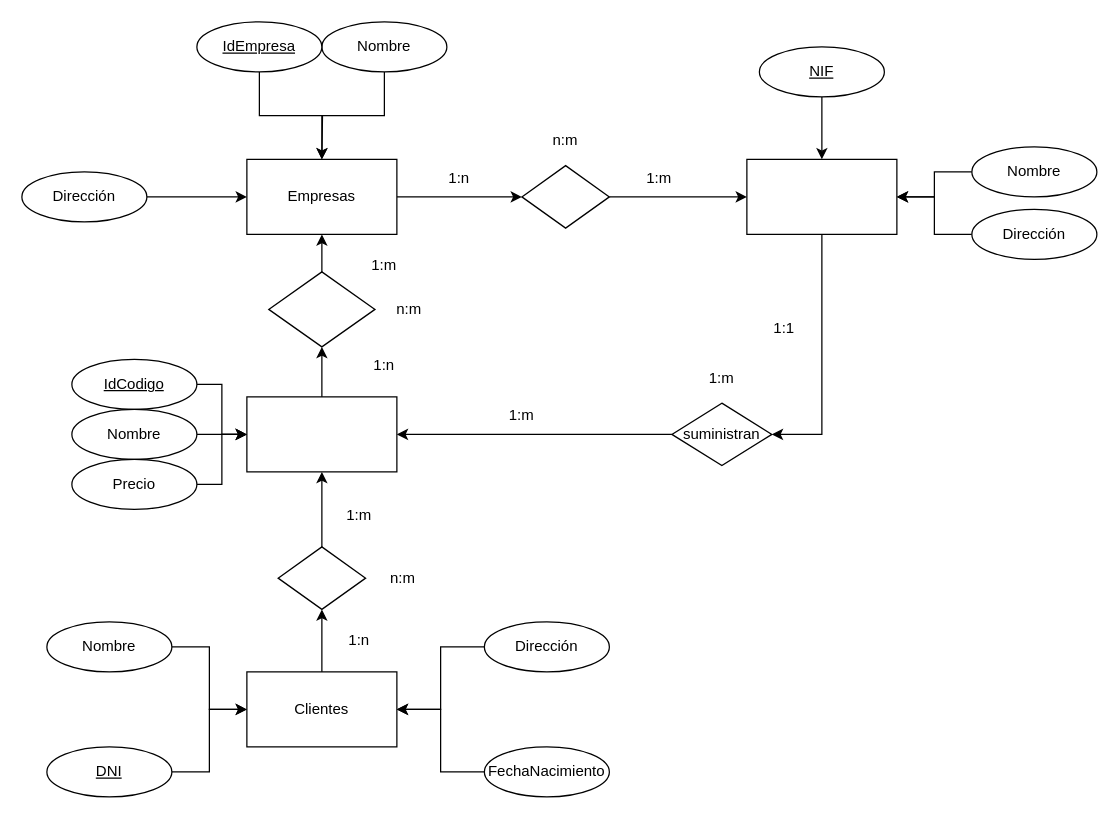
This 1119x819 diagram has some shape labels left out. The shapes that lost their labels are listed below. From the top down, each one's centre as x and y in pixels, then its label:
(x=565, y=196): Tienen
(x=821, y=196): Proveedores
(x=321, y=309): sonVendidos
(x=321, y=434): Productos
(x=321, y=577): Compran
